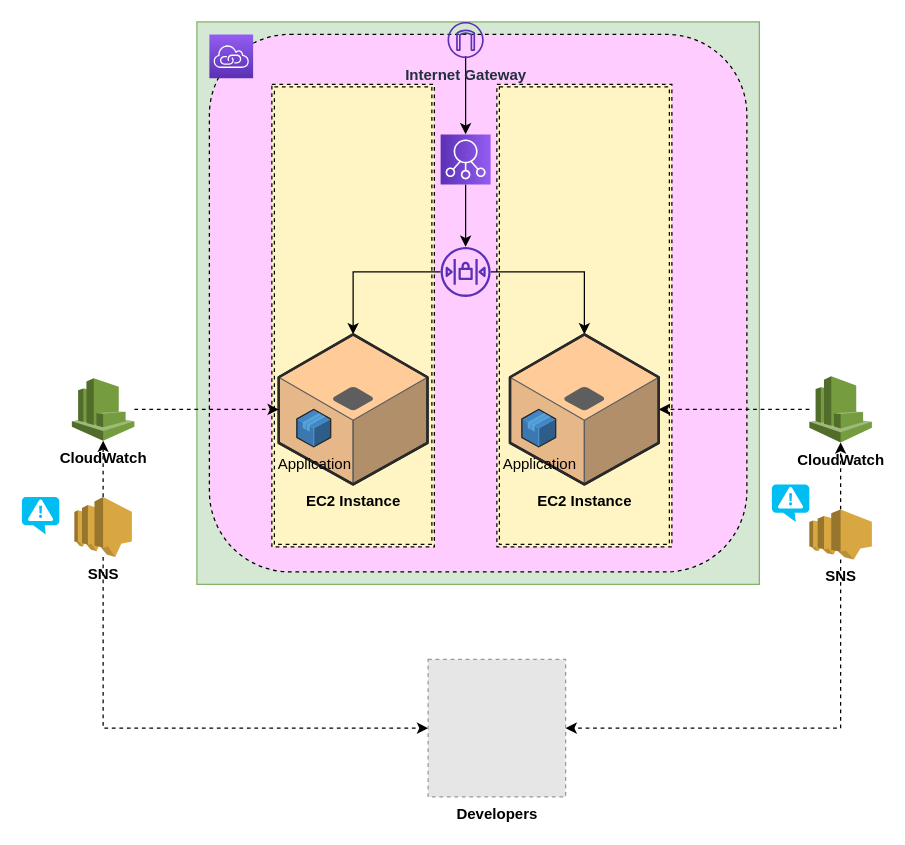
Some shapes in this 905 by 845 pixel diagram are drawn without their labels. Grey dashed boxes stand in for pictures. Here are the shapes that lost their labels. From the top down, the centre of each, then its label:
At point 230,55: "VPC".
At point 465,158: "ELB".
At point 465,271: "NACL".
